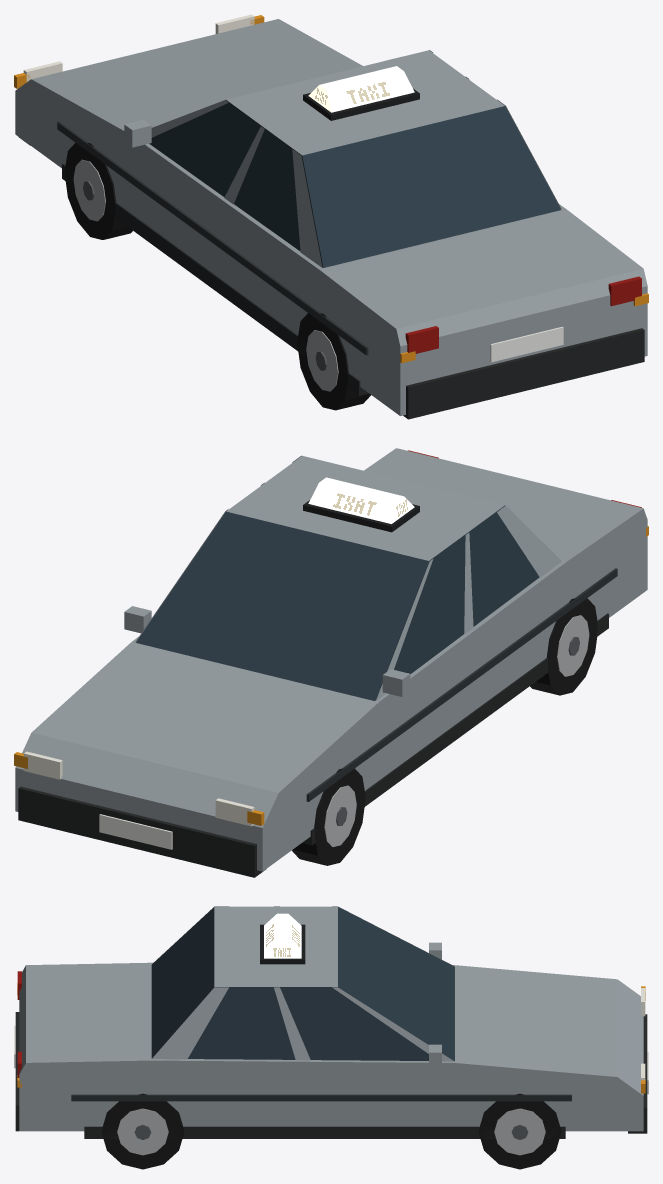
Rendered from taxi.glb.
3 views of the same model, one above another, from view 1: azimuth 30°, elevation 25°; view 2: azimuth 150°, elevation 25°; view 3: azimuth 270°, elevation 25° (orthographic). The views are drawn at different scales.
Parts seen in each view (by area): view 1: Taxi, TailR, TailL; view 2: Taxi, HeadR, HeadL; view 3: Taxi.
Boxes of the visible parts, x1,y1,x2,y2 form: Taxi: (15, 19, 647, 419); TailR: (608, 276, 641, 306); TailL: (405, 326, 438, 353); Taxi: (15, 448, 647, 877); HeadR: (23, 751, 62, 779); HeadL: (215, 798, 254, 826); Taxi: (14, 906, 648, 1169).
Bounding box in the file's own units: 2 × 1.62 × 4.88.
13 materials, 1 textured.
